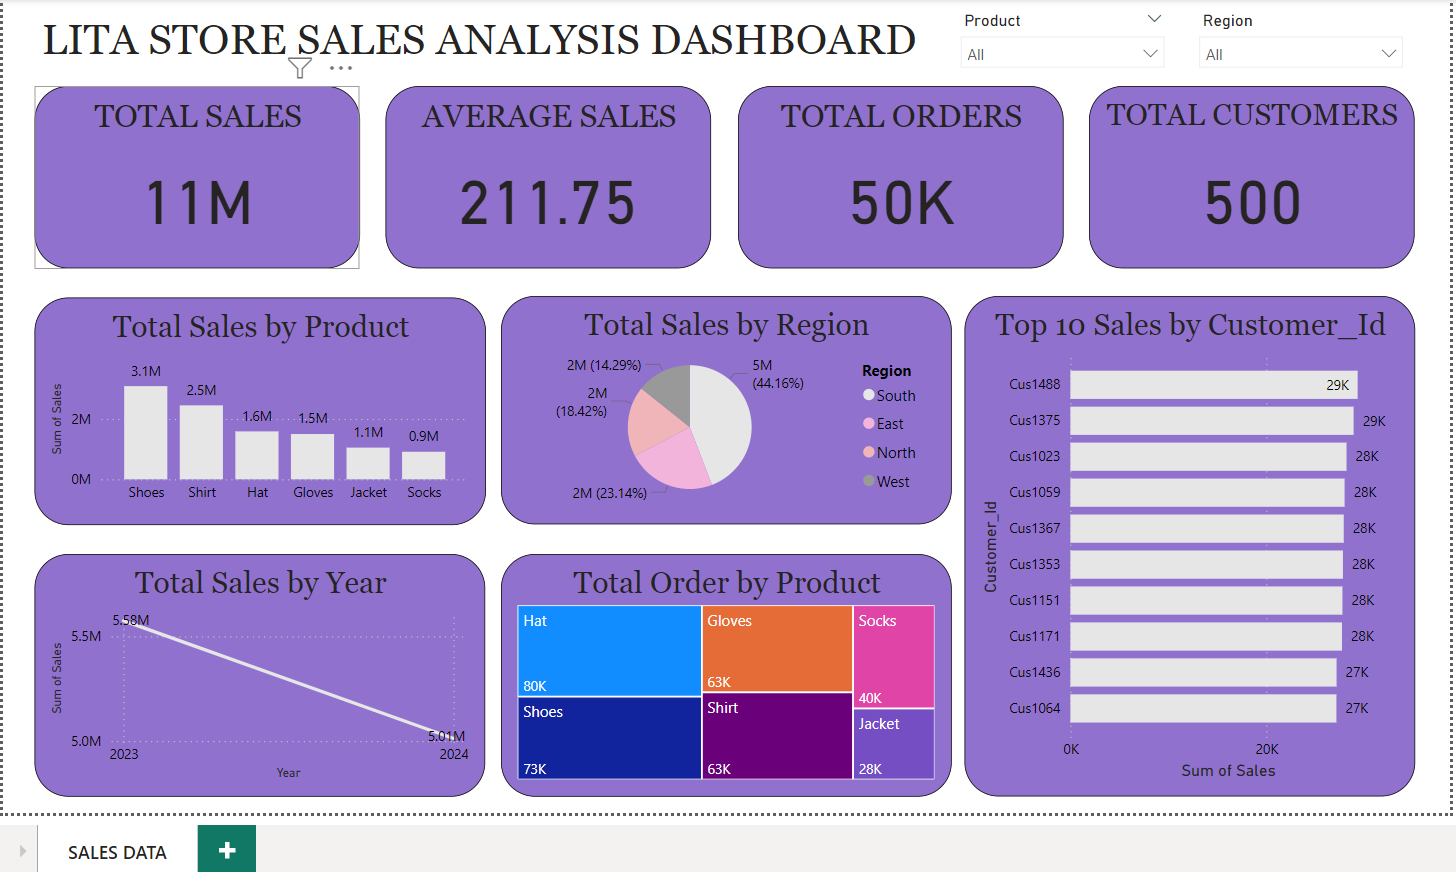

Layout of this report page (visuals, bound fields, positions):
{"tool":"powerbi","page":{"name":"SALES DATA","canvas":[1280,720],"ordinal":0},"visuals":[{"type":"card","title":"TOTAL SALES","fields":{"Values":["Sum(SalesData.Sales)"]},"box":[27.9,77,288,161.5],"z":0},{"type":"card","title":"AVERAGE SALES","fields":{"Values":["Avg(SalesData.Sales)"]},"box":[338.7,77,288,161.5],"z":1000},{"type":"card","title":"TOTAL ORDERS","fields":{"Values":["CountNonNull(SalesData.OrderID)"]},"box":[649.5,77,288,161.5],"z":2000},{"type":"card","title":"TOTAL CUSTOMERS","fields":{"Values":["Count(SalesData.Customer_Id)"]},"box":[960.3,77,288,161.5],"z":3000},{"type":"clusteredColumnChart","title":"Total Sales by Product","fields":{"Category":["SalesData.Product"],"Y":["Sum(SalesData.Sales)"]},"box":[28,263.5,399.5,201.1],"z":4000},{"type":"barChart","title":"Top 10 Sales by Customer_Id","fields":{"Category":["SalesData.Customer_Id"],"Y":["Sum(SalesData.Sales)"]},"box":[850.6,263.1,399,442.8],"z":5000},{"type":"pieChart","title":"Total Sales by Region","fields":{"Y":["Sum(SalesData.Sales)"],"Category":["SalesData.Region"]},"box":[440.5,263.2,398.6,201.9],"z":6000},{"type":"lineChart","title":"Total Sales by Year","fields":{"Y":["Sum(SalesData.Sales)"],"Category":["SalesData.Year"]},"box":[27.8,491.1,399,214.8],"z":7000},{"type":"textbox","box":[29.5,9.3,820.4,55.8],"z":8000},{"type":"slicer","fields":{"Values":["SalesData.Region"]},"box":[1048.4,5.9,200.1,58.9],"z":9000},{"type":"slicer","fields":{"Values":["SalesData.Product"]},"box":[837.5,5.9,200.1,58.9],"z":10000},{"type":"treemap","title":"Total Order by Product","fields":{"Group":["SalesData.Product"],"Values":["Sum(SalesData.Quantity)"]},"box":[439.9,491.1,399,214.8],"z":11000}]}

Visuals, with their boxes in screenshot pixels (x1, y1, x2, y2):
"TOTAL SALES" card: locate(35, 83, 358, 264)
"AVERAGE SALES" card: locate(384, 83, 707, 264)
"TOTAL ORDERS" card: locate(732, 83, 1055, 264)
"TOTAL CUSTOMERS" card: locate(1081, 83, 1404, 264)
"Total Sales by Product" clusteredColumnChart: locate(35, 292, 483, 517)
"Top 10 Sales by Customer_Id" barChart: locate(958, 291, 1406, 788)
"Total Sales by Region" pieChart: locate(498, 291, 945, 518)
"Total Sales by Year" lineChart: locate(35, 547, 483, 788)
textbox: locate(37, 7, 957, 69)
slicer - SalesData.Region: locate(1180, 3, 1404, 69)
slicer - SalesData.Product: locate(943, 3, 1168, 69)
"Total Order by Product" treemap: locate(497, 547, 945, 788)
